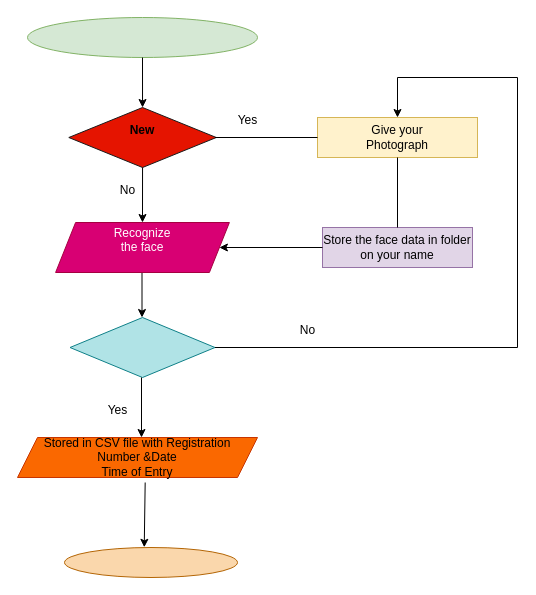
Image size: 536x595. Some labels were removed from this diagram. Here are the shapes that lost their labels. From the top down, the centre of each, then its label:
At [142,37]: "Start".
At [142,347]: "Face Recognized".
At [151,562]: "End".
